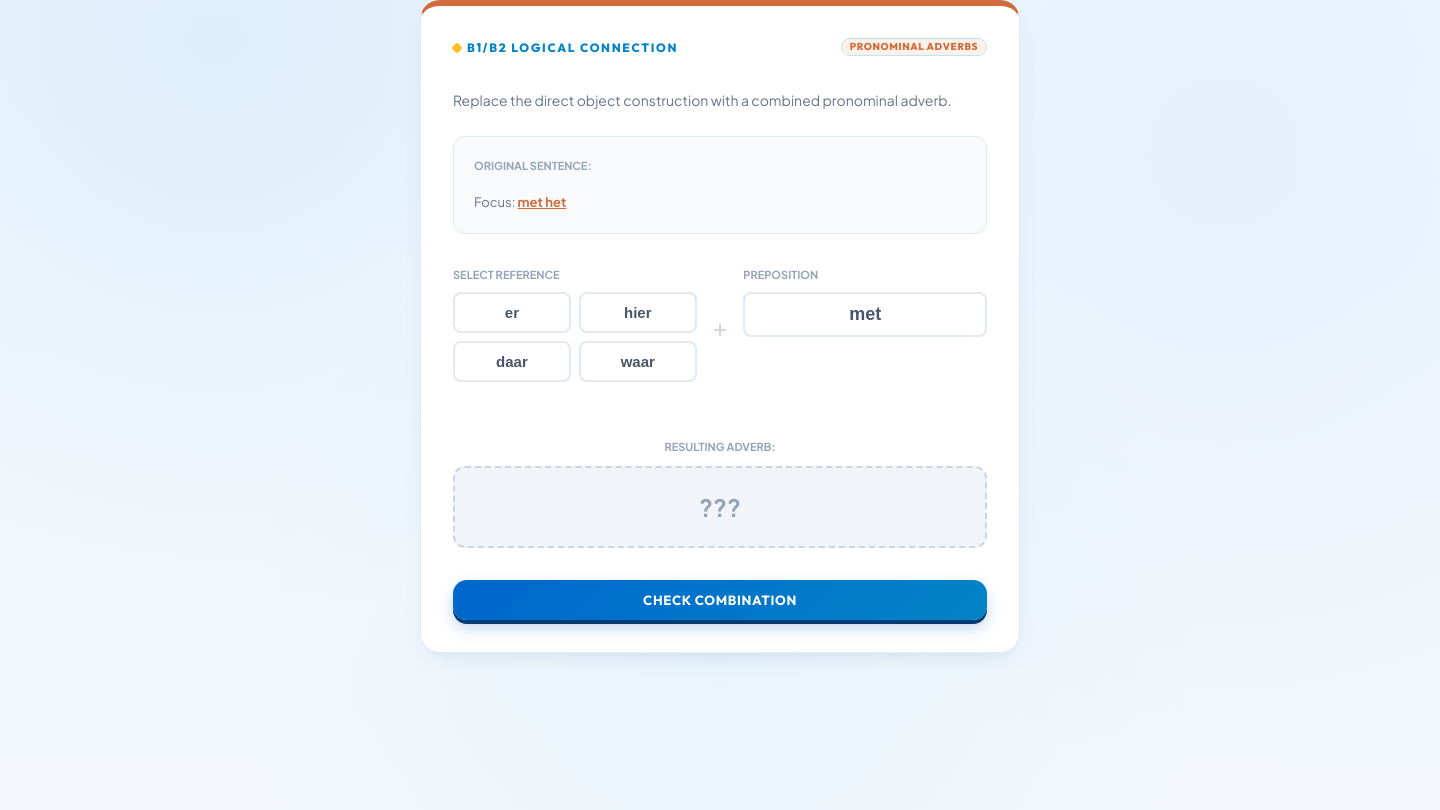
Test case: PronominalDrill › applies the met → mee spelling shift
This screenshot has width=1440, height=810.
Step 1. Click the button with class "choice-btn" showing "hier" → (638, 312), box [579,292,697,333]
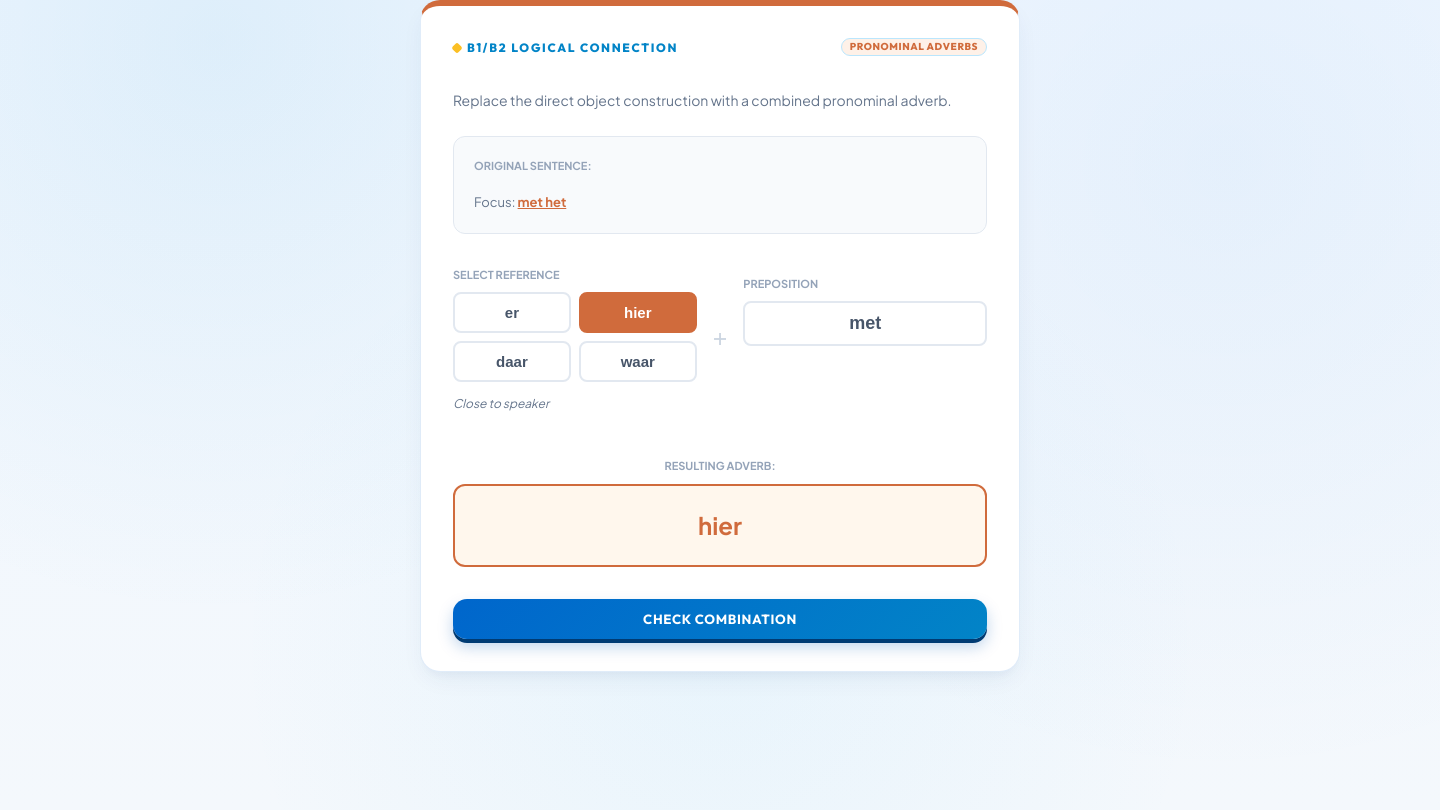
Step 2. Click the button "met" → (865, 324), box [743,301,987,346]
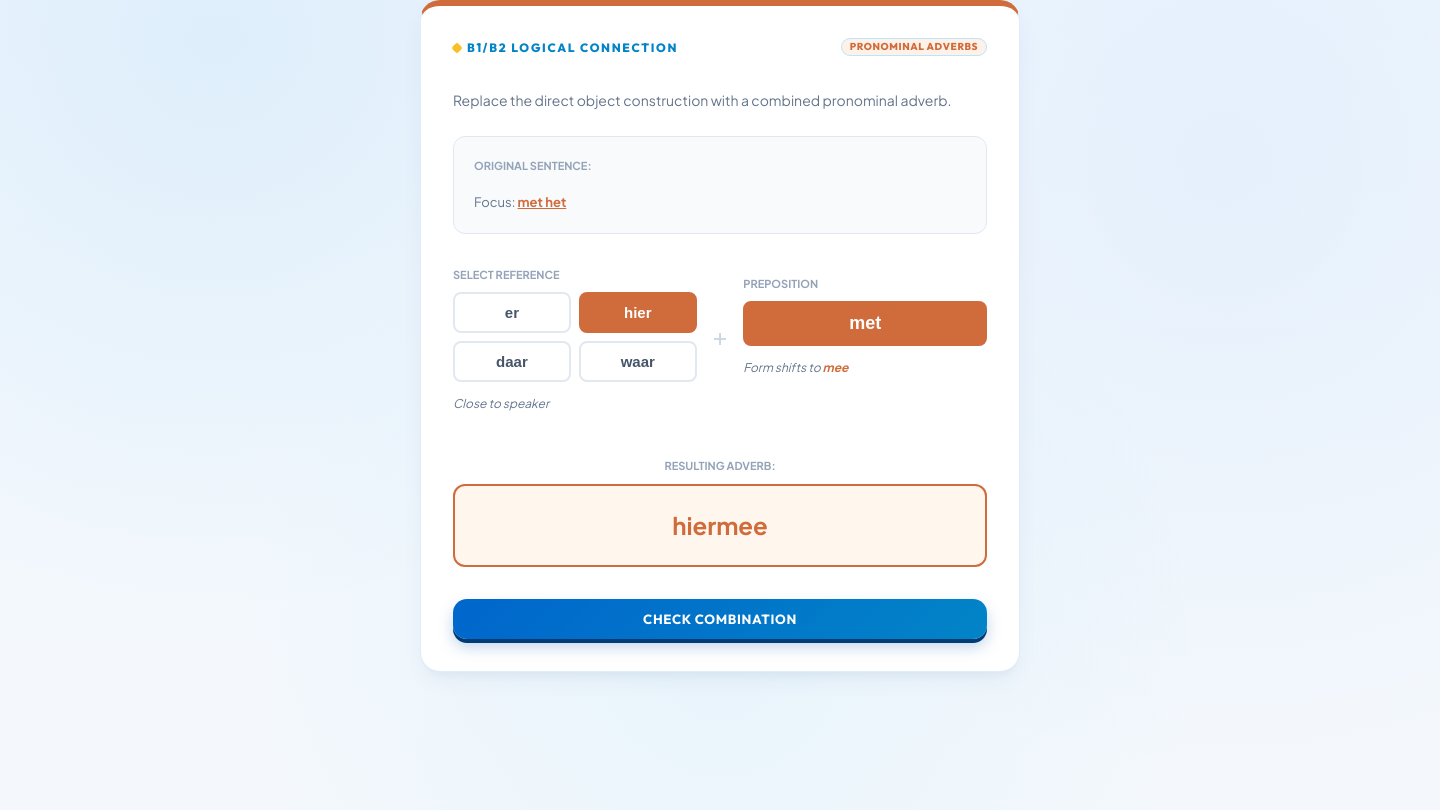
Expected: the text "Form shifts to mee" is shown, [743,360,848,375]
Expected: the text with class "result-box" reads "hiermee", [672,510,768,540]
